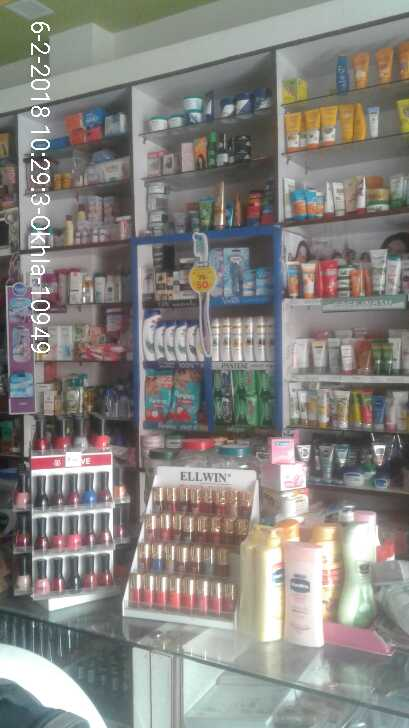venus: (224, 248, 241, 290), (11, 372, 34, 400), (9, 296, 31, 321), (14, 326, 30, 359), (212, 249, 223, 295), (256, 266, 273, 294), (242, 270, 256, 294)
